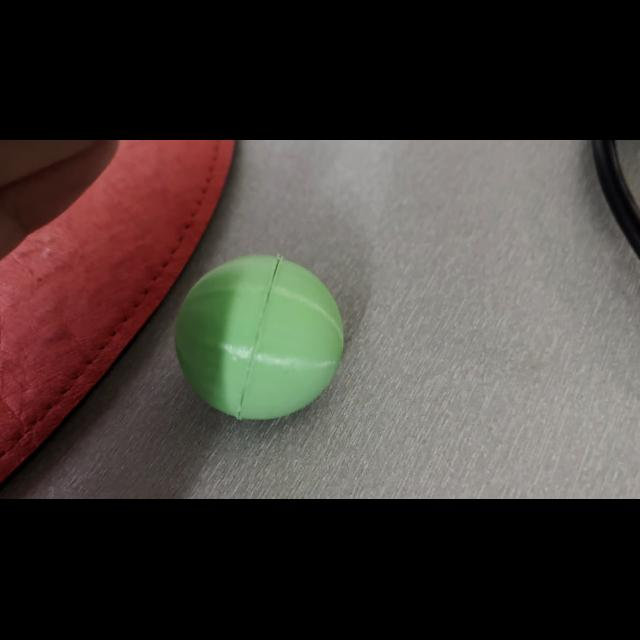objects: (164, 247, 350, 427)
